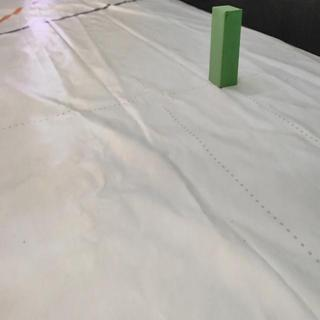greenbox: (207, 5, 242, 90)
